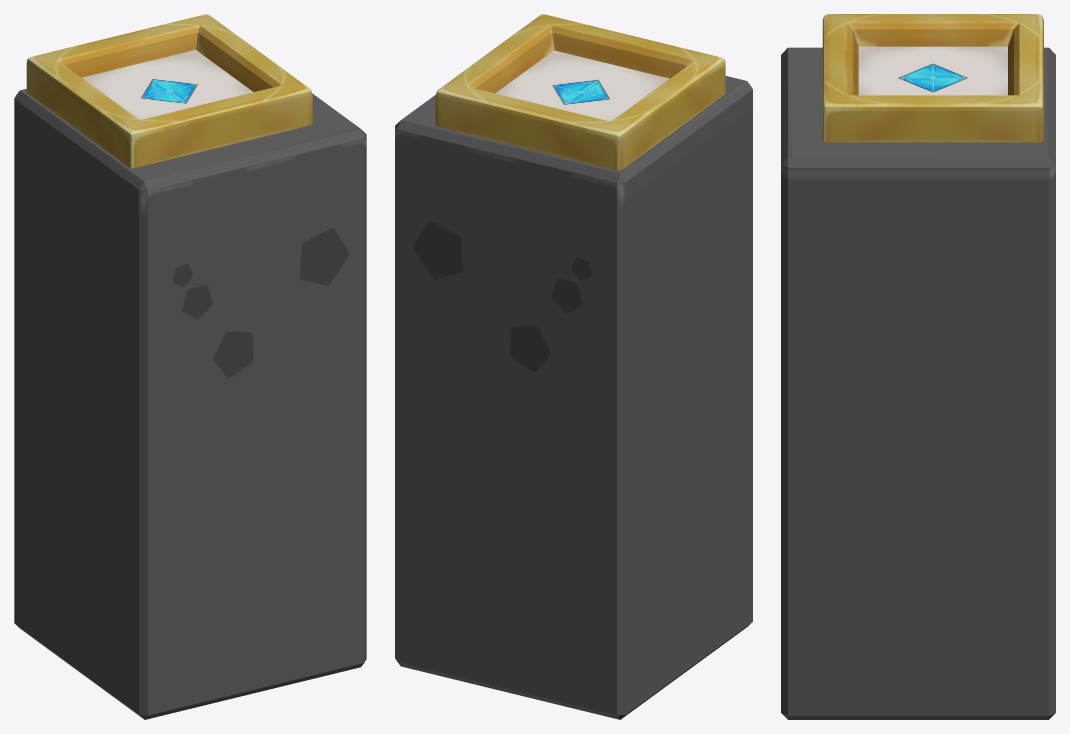
File: S6_InF_WallCorner_002.fbx
The picture shows the model from 3 angles, left to right: view 1: azimuth 30°, elevation 25°; view 2: azimuth 150°, elevation 25°; view 3: azimuth 270°, elevation 25°; orthographic projection. The views are drawn at different scales.
Visible parts, largest first — view 1: kakuninyouBlock, pCube509; view 2: kakuninyouBlock, pCube509; view 3: kakuninyouBlock, pCube509.
Boxes of the visible parts, x1=… form: kakuninyouBlock: x1=14, y1=89, x2=366, y2=719; pCube509: x1=26, y1=14, x2=312, y2=168; kakuninyouBlock: x1=395, y1=76, x2=752, y2=719; pCube509: x1=435, y1=14, x2=725, y2=170; kakuninyouBlock: x1=781, y1=47, x2=1055, y2=719; pCube509: x1=822, y1=14, x2=1043, y2=142.
Bounding box in the file's own units: 0.8889 × 2.14 × 0.8889.
